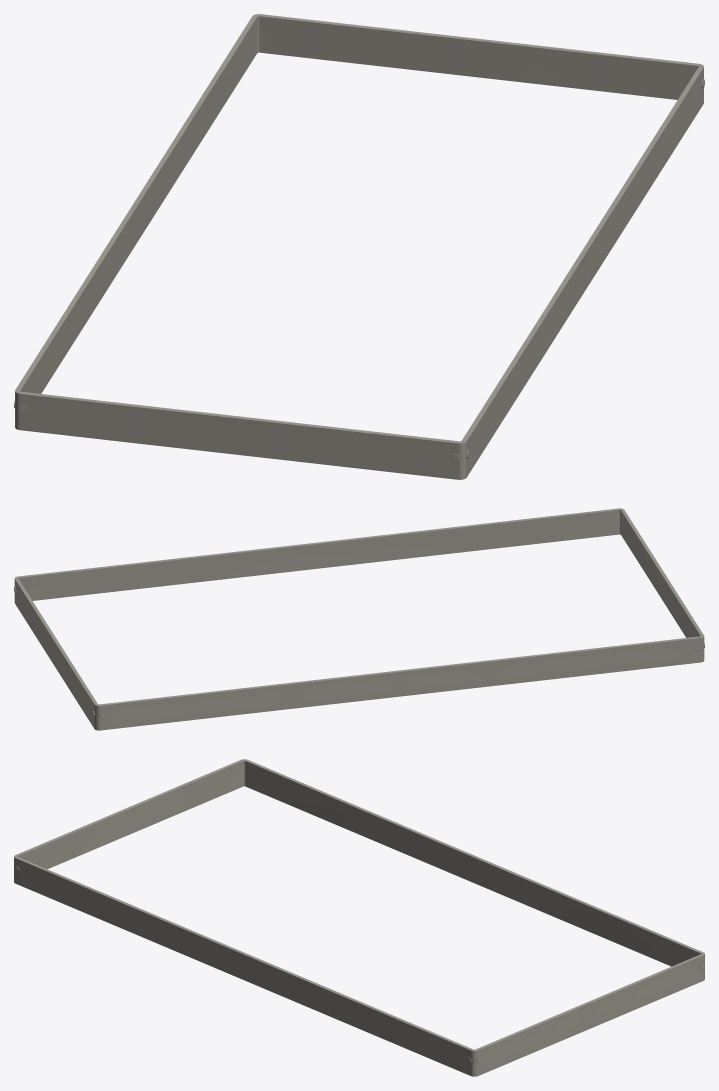
File: top_frame_0101_w800_d400.glb
The picture shows the model from 3 angles, top to bottom: view 1: azimuth 30°, elevation 25°; view 2: azimuth 150°, elevation 25°; view 3: azimuth 270°, elevation 25°; orthographic projection. The views are drawn at different scales.
Parts seen in each view (by area): view 1: top_frame_0101_w800_d400; view 2: top_frame_0101_w800_d400; view 3: top_frame_0101_w800_d400.
Boxes of the visible parts, <box> form: top_frame_0101_w800_d400: <box>14,14,704,479</box>; top_frame_0101_w800_d400: <box>14,508,704,730</box>; top_frame_0101_w800_d400: <box>14,759,704,1076</box>.
Bounding box in the file's own units: 0.8407 × 0.0343 × 0.8407.
Materials: 1 (1 with a texture image).
